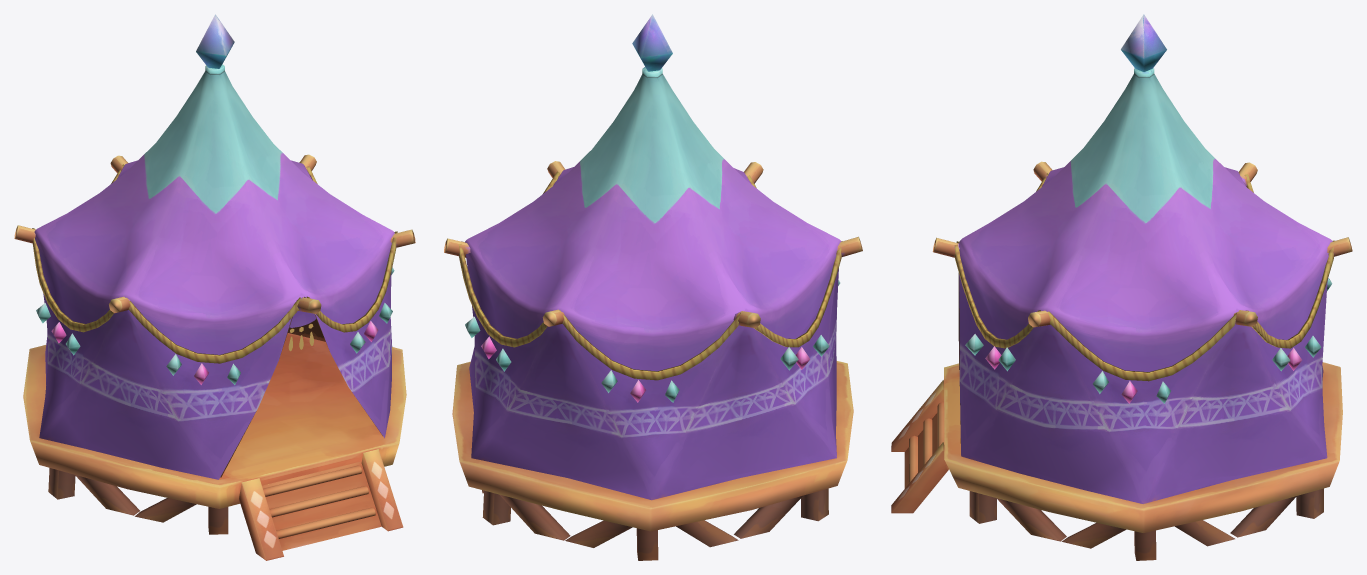
The model's file is SM_Jeweler_lv1.fbx.
3 renders of one model, left to right at view 1: azimuth 30°, elevation 25°; view 2: azimuth 150°, elevation 25°; view 3: azimuth 270°, elevation 25°, orthographic. The views are drawn at different scales.
Visible parts, largest first — view 1: SM_Jeweler_lv1; view 2: SM_Jeweler_lv1; view 3: SM_Jeweler_lv1.
Boxes of the visible parts, <box> form: SM_Jeweler_lv1: <box>14,14,415,560</box>; SM_Jeweler_lv1: <box>444,14,862,560</box>; SM_Jeweler_lv1: <box>891,14,1352,560</box>.
Size of the model in its own units: 655 by 743 by 669.
